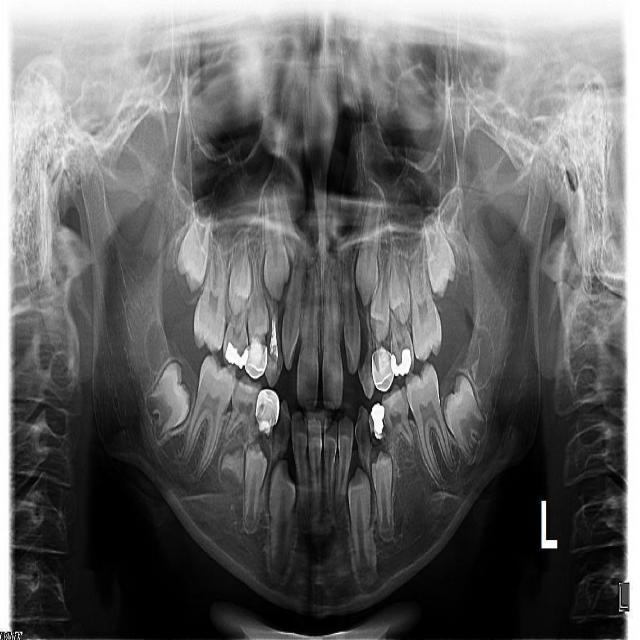74: (270, 311, 279, 358)
NucleOSS Implant: (222, 341, 251, 371), (388, 349, 414, 376), (370, 402, 385, 434)
Straumann Implant: (262, 355, 281, 387)
Zimmer Implant: (369, 347, 396, 393), (255, 387, 282, 428), (243, 342, 268, 381)
